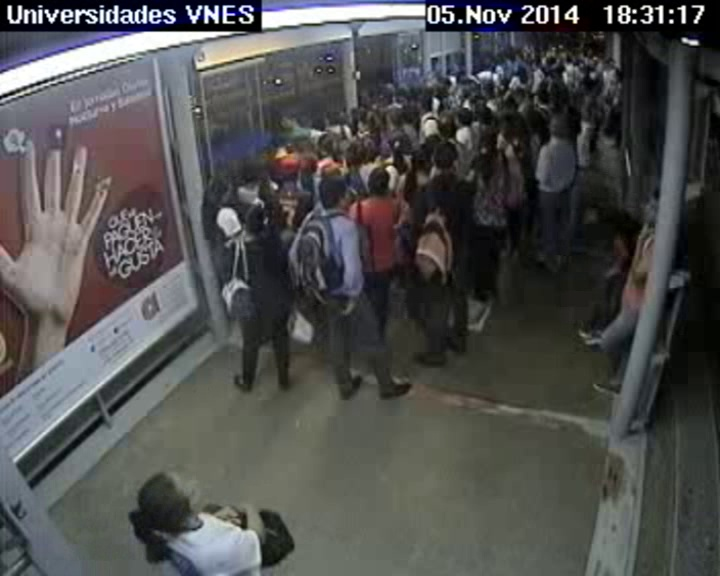person: (134, 464, 203, 536), (320, 176, 357, 211), (433, 142, 464, 175), (238, 203, 269, 234), (206, 174, 235, 206), (642, 188, 666, 225), (365, 167, 393, 196), (351, 137, 378, 164), (241, 157, 267, 185), (501, 110, 526, 136), (612, 206, 635, 233), (278, 161, 302, 186), (547, 113, 570, 138), (388, 133, 413, 156), (477, 129, 500, 151), (410, 150, 432, 172), (322, 104, 341, 123), (453, 107, 471, 127), (279, 111, 297, 131), (383, 111, 401, 130), (437, 121, 455, 139), (436, 101, 453, 120), (356, 115, 373, 134), (535, 88, 552, 106), (377, 86, 394, 104), (588, 106, 605, 123), (425, 80, 441, 97), (468, 97, 483, 115), (435, 82, 450, 98), (399, 108, 415, 123), (606, 115, 620, 132), (393, 89, 408, 104), (272, 135, 287, 150), (295, 137, 310, 152), (513, 86, 527, 102), (479, 107, 493, 122), (585, 66, 599, 80), (463, 83, 477, 97), (522, 43, 535, 57), (589, 83, 602, 97), (327, 139, 340, 152), (609, 69, 621, 82), (605, 55, 617, 68), (559, 48, 571, 61), (515, 65, 527, 78), (481, 85, 494, 97), (356, 96, 369, 108), (312, 118, 324, 131), (547, 44, 558, 58), (530, 59, 542, 71), (492, 56, 504, 67), (483, 58, 494, 70), (574, 47, 585, 58), (418, 103, 429, 114), (586, 46, 596, 58), (320, 133, 330, 145), (499, 79, 509, 90), (408, 86, 418, 95), (369, 102, 378, 112), (544, 73, 552, 82), (576, 60, 584, 69), (514, 54, 522, 62), (503, 56, 509, 62)
